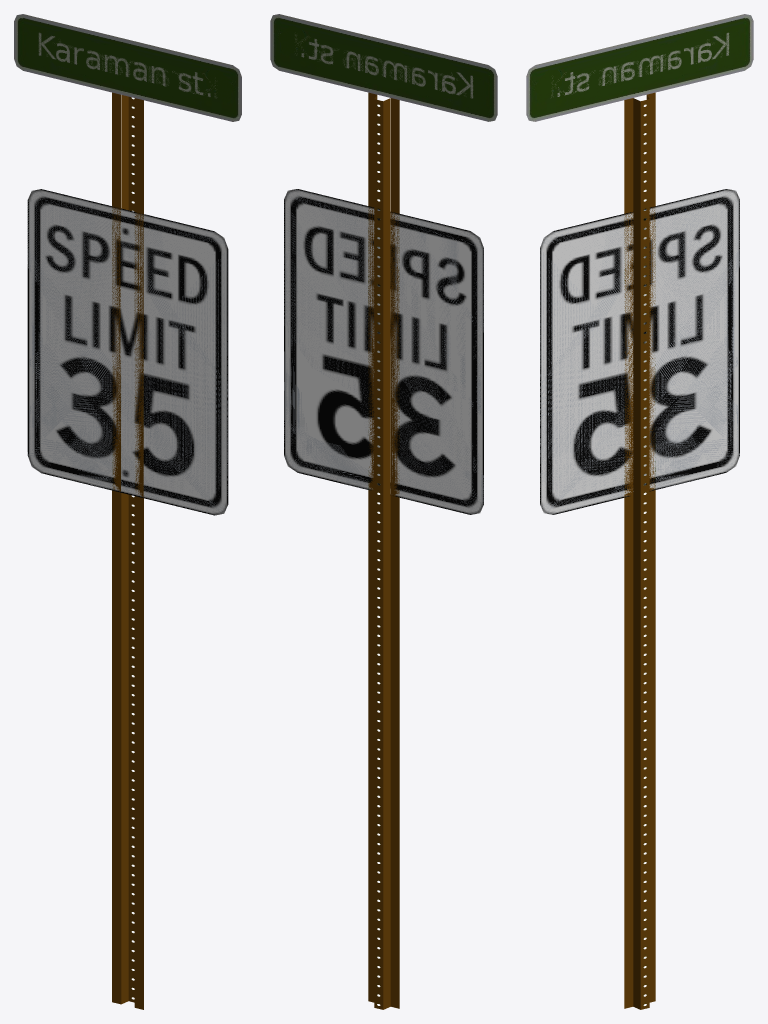
File: karaman-simple.dae
The picture shows the model from 3 angles, left to right: view 1: azimuth 30°, elevation 25°; view 2: azimuth 210°, elevation 25°; view 3: azimuth 270°, elevation 25°; orthographic projection.
Parts seen in each view (by area): view 1: group_2, Component_11 (×5), group_1, Component_12, Component_10; view 2: group_2, Component_11 (×5), group_1, Component_10, Component_12; view 3: group_2, Component_11 (×5), group_1, Component_10, Component_12.
Boxes of the visible parts, x1=… form: group_2: x1=27, y1=189, x2=228, y2=515; Component_11 (×5): x1=112, y1=92, x2=143, y2=1009; group_1: x1=14, y1=14, x2=241, y2=121; Component_12: x1=121, y1=95, x2=128, y2=1004; Component_10: x1=128, y1=96, x2=134, y2=1002; group_2: x1=284, y1=189, x2=483, y2=514; Component_11 (×5): x1=368, y1=92, x2=399, y2=1008; group_1: x1=270, y1=14, x2=497, y2=121; Component_10: x1=374, y1=99, x2=383, y2=1009; Component_12: x1=383, y1=98, x2=390, y2=1009; group_2: x1=540, y1=189, x2=739, y2=514; Component_11 (×5): x1=624, y1=92, x2=655, y2=1008; group_1: x1=526, y1=14, x2=753, y2=121; Component_10: x1=640, y1=99, x2=649, y2=1009; Component_12: x1=633, y1=98, x2=640, y2=1009.
Bounding box in the file's own units: 12.58 × 21.79 × 102.
Materials: 5 (5 with a texture image).
